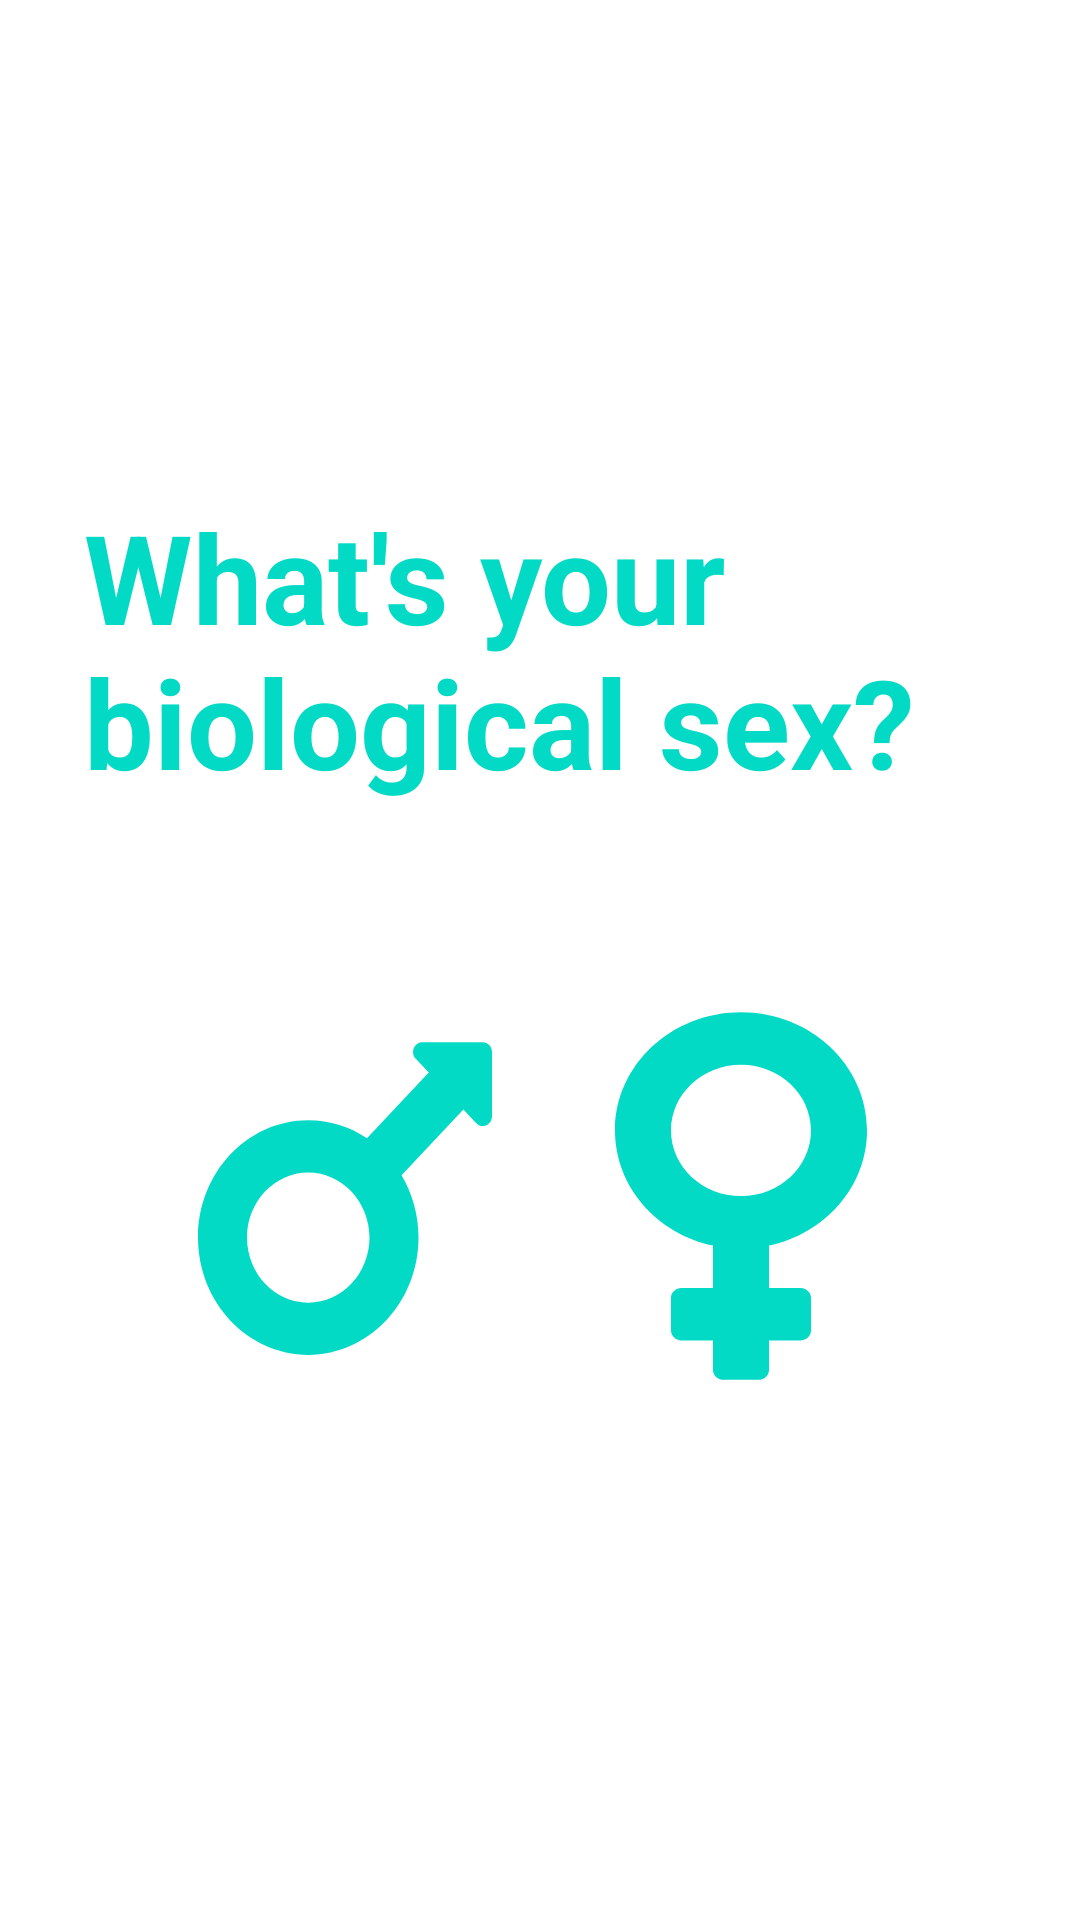

Icon click points for this 1080 × 1920 phone screenshot, format point (x, y):
mars: point (345, 1198)
